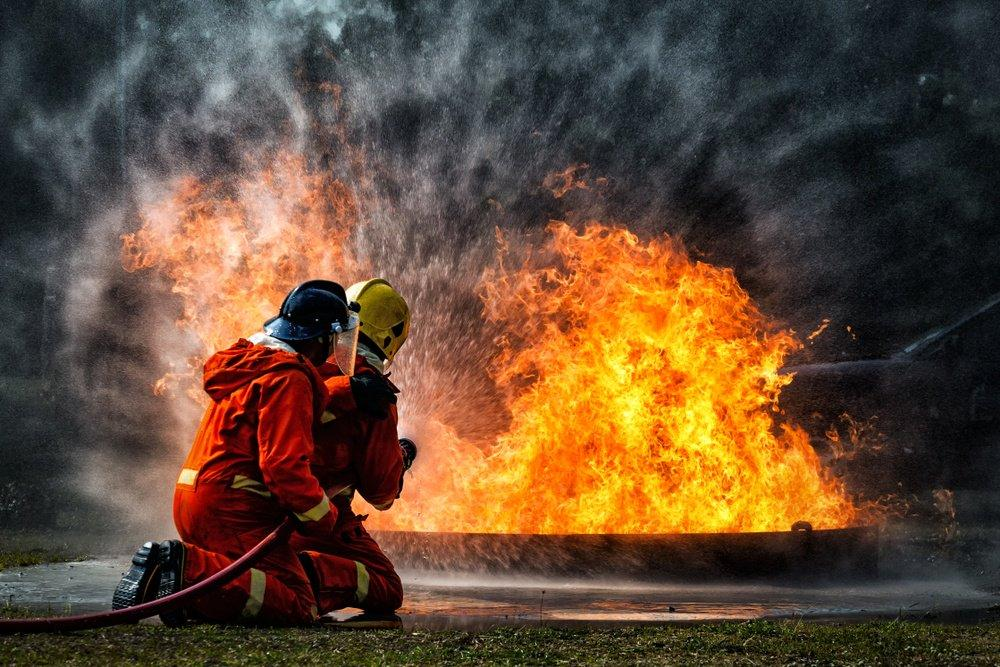Fire: (71, 137, 898, 566)
